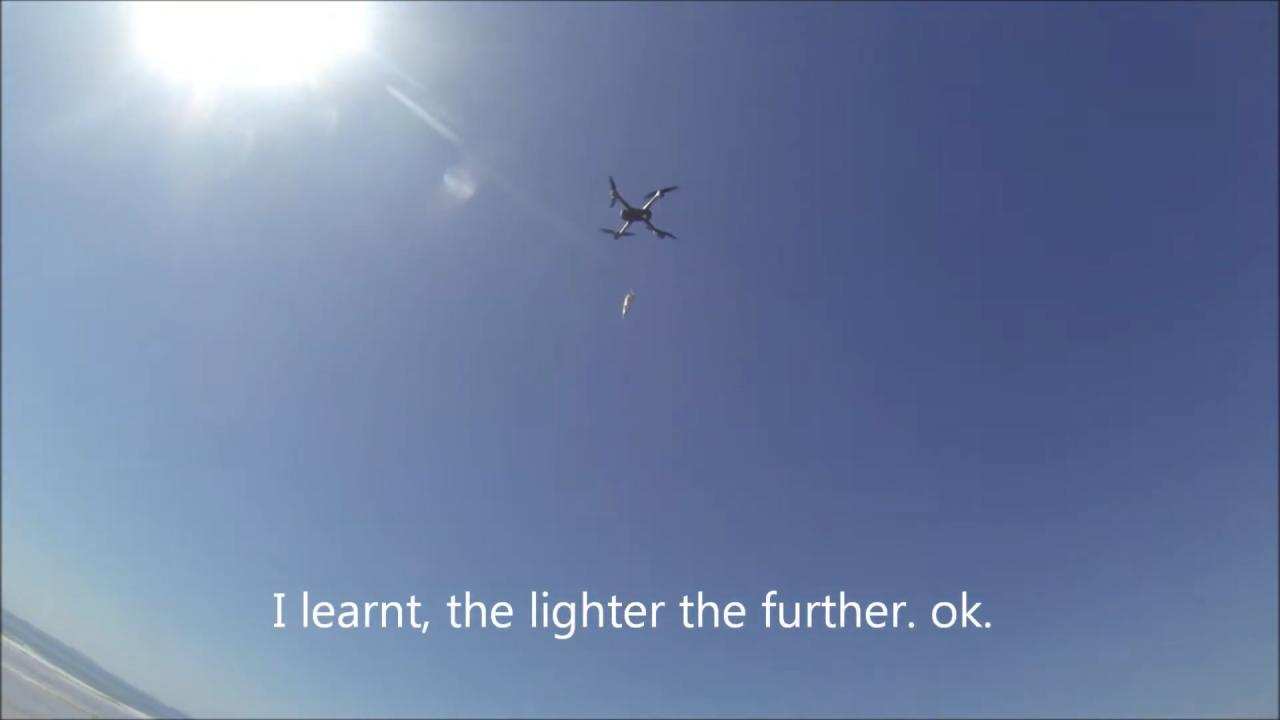Drone: (587, 167, 691, 254)
